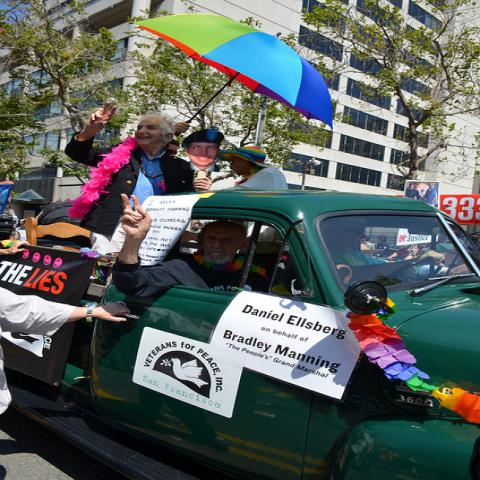truck: (2, 182, 477, 480)
